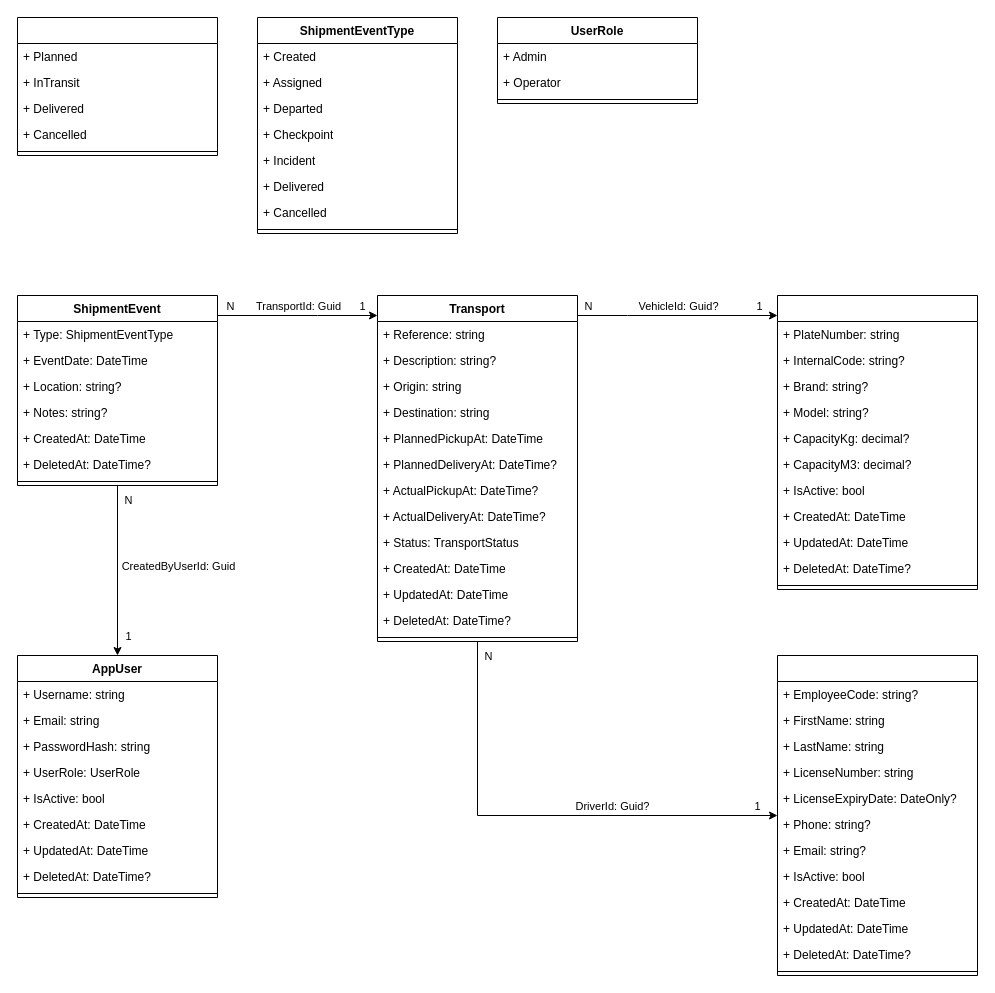
This 995x993 diagram has some shape labels left out. The shapes that lost their labels are listed below. From the top down, each one's box as (x1, y1, x2, y2) in pixels, then its label:
(16, 16, 218, 156): TransportStatus
(776, 294, 978, 590): Vehicle
(776, 654, 978, 976): Driver
